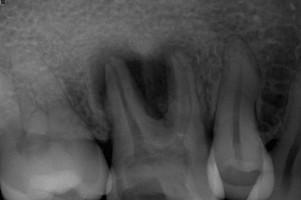Dental Caries: (88, 32, 202, 119)
